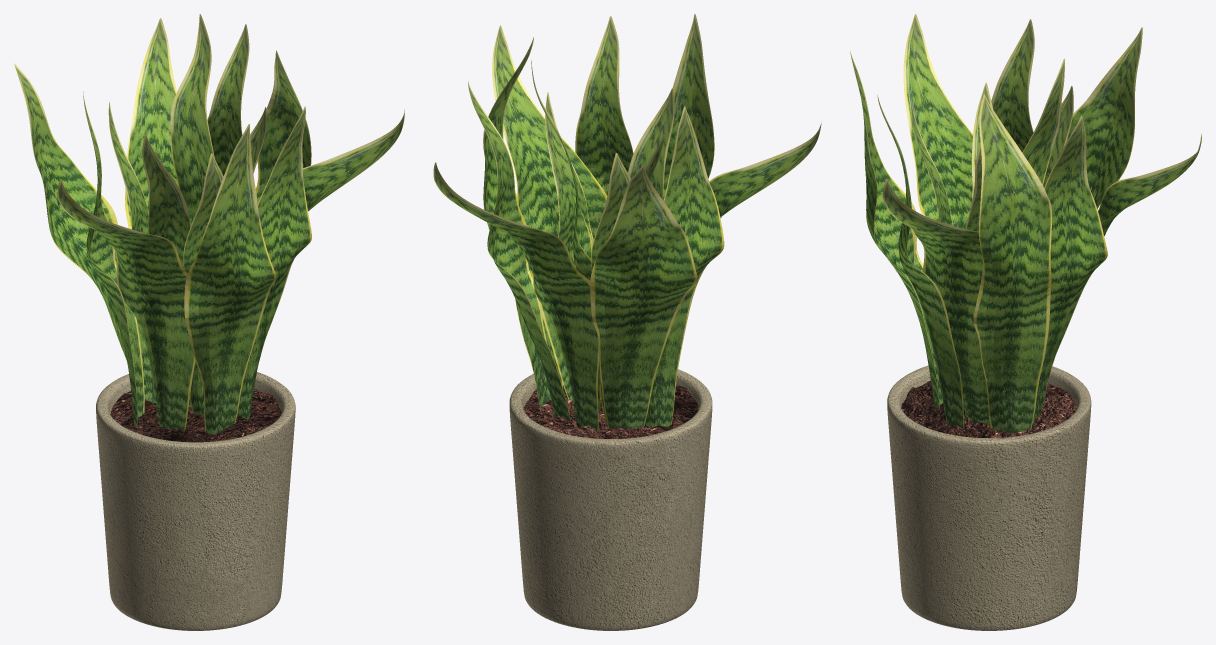
Rendered from Plant_1.obj.
3 views of the same model, side by side, from view 1: azimuth 30°, elevation 25°; view 2: azimuth 150°, elevation 25°; view 3: azimuth 270°, elevation 25° (orthographic). The views are drawn at different scales.
Parts seen in each view (by area): view 1: Cylinder, Plane, Plane.001_Plane.002, Plane.010_Plane.011, Plane.004_Plane.005, Plane.013_Plane.014, Plane.005_Plane.006, Plane.002_Plane.003, Cylinder.001, Plane.006_Plane.007, Plane.008_Plane.009, Plane.012_Plane.013 (+4 smaller); view 2: Cylinder, Plane.004_Plane.005, Plane.005_Plane.006, Plane.009_Plane.010, Plane.002_Plane.003, Plane.006_Plane.007, Plane.010_Plane.011, Plane, Cylinder.001, Plane.008_Plane.009, Plane.001_Plane.002, Plane.007_Plane.008 (+3 smaller); view 3: Cylinder, Plane.008_Plane.009, Plane.006_Plane.007, Plane.009_Plane.010, Plane.001_Plane.002, Plane.004_Plane.005, Plane, Plane.010_Plane.011, Cylinder.001, Plane.002_Plane.003, Plane.005_Plane.006, Plane.013_Plane.014 (+4 smaller).
Part boxes in pixels (bbox=[...]): Cylinder: bbox=[96, 372, 295, 630]; Plane: bbox=[184, 124, 276, 434]; Plane.001_Plane.002: bbox=[57, 179, 195, 430]; Plane.010_Plane.011: bbox=[237, 106, 311, 419]; Plane.004_Plane.005: bbox=[14, 63, 152, 401]; Plane.013_Plane.014: bbox=[170, 14, 214, 224]; Plane.005_Plane.006: bbox=[125, 18, 178, 229]; Plane.002_Plane.003: bbox=[83, 91, 144, 429]; Cylinder.001: bbox=[110, 388, 281, 442]; Plane.006_Plane.007: bbox=[207, 24, 249, 175]; Plane.008_Plane.009: bbox=[255, 50, 311, 204]; Plane.012_Plane.013: bbox=[142, 133, 191, 406]; Cylinder: bbox=[509, 369, 712, 630]; Plane.004_Plane.005: bbox=[590, 165, 697, 428]; Plane.005_Plane.006: bbox=[433, 162, 599, 431]; Plane.009_Plane.010: bbox=[492, 25, 607, 400]; Plane.002_Plane.003: bbox=[644, 106, 724, 427]; Plane.006_Plane.007: bbox=[468, 81, 570, 421]; Plane.010_Plane.011: bbox=[575, 16, 633, 195]; Plane: bbox=[663, 14, 714, 200]; Cylinder.001: bbox=[523, 385, 698, 438]; Plane.008_Plane.009: bbox=[483, 37, 562, 408]; Plane.001_Plane.002: bbox=[709, 121, 821, 217]; Plane.007_Plane.008: bbox=[545, 92, 593, 410]; Cylinder: bbox=[887, 365, 1091, 630]; Plane.008_Plane.009: bbox=[973, 94, 1051, 433]; Plane.006_Plane.007: bbox=[1032, 116, 1107, 424]; Plane.009_Plane.010: bbox=[882, 178, 989, 424]; Plane.001_Plane.002: bbox=[903, 14, 972, 228]; Plane.004_Plane.005: bbox=[1067, 27, 1142, 208]; Plane: bbox=[850, 51, 942, 412]; Plane.010_Plane.011: bbox=[877, 95, 963, 428]; Cylinder.001: bbox=[901, 380, 1076, 437]; Plane.002_Plane.003: bbox=[991, 19, 1034, 152]; Plane.005_Plane.006: bbox=[1042, 134, 1201, 407]; Plane.013_Plane.014: bbox=[1022, 58, 1064, 184].
Bounding box in the file's own units: 0.9092 × 1.43 × 0.8168.
